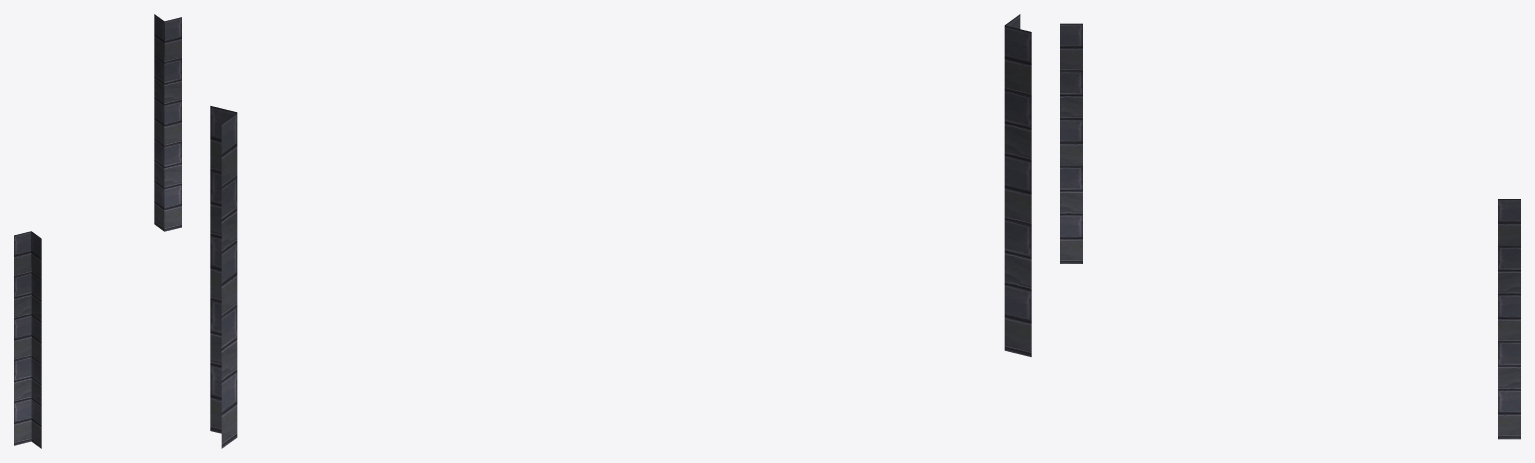
File: dungeon_wall_corner2diagonal.FBX
The picture shows the model from 3 angles, left to right: view 1: azimuth 30°, elevation 25°; view 2: azimuth 150°, elevation 25°; view 3: azimuth 270°, elevation 25°; orthographic projection. The views are drawn at different scales.
Visible parts, largest first — view 1: Object023; view 2: Object023; view 3: Object023.
Part boxes in pixels (box(x1,y1,x2,y2)): Object023: box(14, 14, 181, 448); Object023: box(210, 14, 1031, 448); Object023: box(1060, 23, 1520, 439).
Bounding box in the file's own units: 1000 × 575 × 1000.
Materials: 1 (1 with a texture image).
